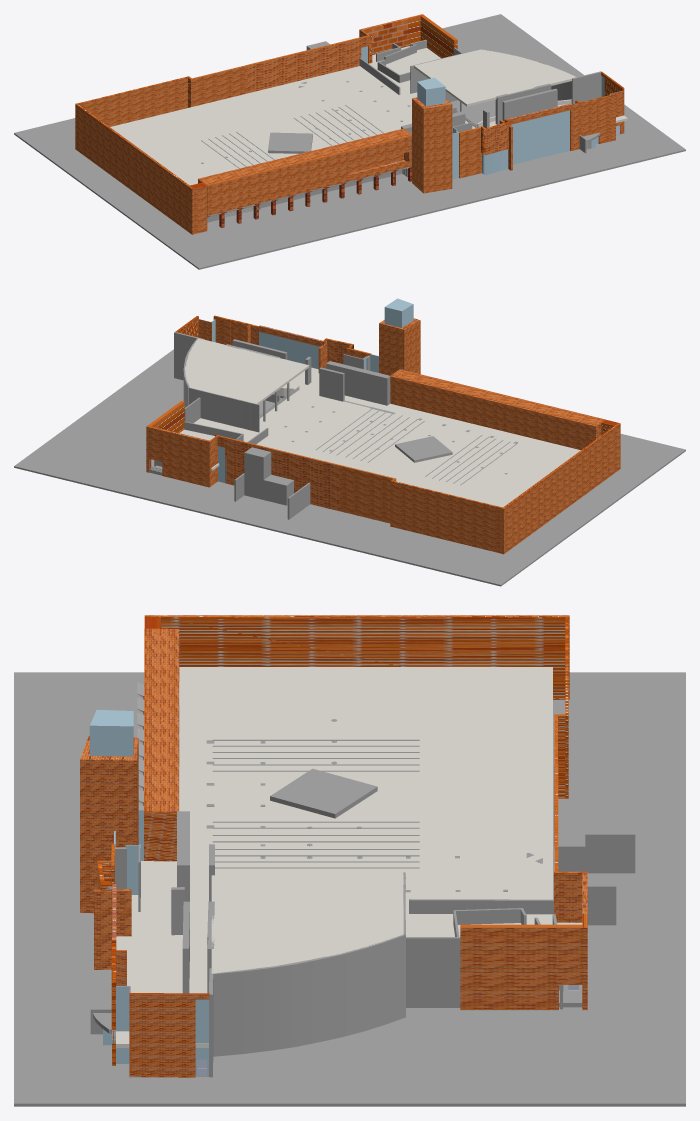
File: CAW_FBX.fbx
3 views of the same model, one above another, from view 1: azimuth 30°, elevation 25°; view 2: azimuth 150°, elevation 25°; view 3: azimuth 270°, elevation 25° (orthographic). The views are drawn at different scales.
Visible parts, largest first — view 1: floor, pPlane65, pPlane1, pPlane9, pPlane76, pCube9, pCube47, pCube46, pCube120, pCube70, pCube139, pCube133 (+15 smaller); view 2: floor, pPlane65, pPlane1, pPlane9, pCube46, pPlane76, pCube47, pCube120, pCube139, pCube9, pCube117, pCube81 (+15 smaller); view 3: floor, pPlane65, pPlane9, pCube65, pPlane76, pCube120, pPlane1, pPlane79, pCube9, pCube140, pCube126, pCube96 (+13 smaller).
Part boxes in pixels (x1,y1,x2,y2): floor: (14, 14, 685, 269); pPlane65: (110, 63, 417, 185); pPlane1: (198, 128, 411, 215); pPlane9: (75, 103, 207, 234); pPlane76: (414, 49, 576, 106); pCube9: (412, 97, 452, 193); pCube47: (246, 35, 368, 93); pCube46: (76, 76, 189, 126); pCube120: (361, 14, 457, 58); pCube70: (511, 110, 569, 164); pCube139: (188, 65, 247, 107); pCube133: (570, 98, 599, 150); floor: (14, 349, 685, 586); pPlane65: (244, 386, 580, 507); pPlane1: (390, 369, 605, 449); pPlane9: (501, 420, 620, 554); pCube46: (390, 480, 503, 553); pPlane76: (185, 338, 309, 404); pCube47: (217, 435, 339, 510); pCube120: (146, 401, 209, 486); pCube139: (339, 465, 396, 523); pCube9: (379, 318, 420, 375); pCube117: (244, 447, 293, 505); pCube81: (326, 361, 390, 405); floor: (14, 672, 685, 1106); pPlane65: (179, 667, 552, 924); pPlane9: (144, 615, 569, 699); pCube65: (212, 934, 405, 1056); pPlane76: (211, 875, 403, 973); pCube120: (460, 873, 587, 1010); pPlane1: (144, 628, 178, 861); pPlane79: (116, 861, 208, 1047); pCube9: (80, 736, 138, 913); pCube140: (129, 986, 209, 1077); pCube126: (406, 937, 460, 1007); pCube96: (270, 768, 377, 818).
Bounding box in the file's own units: 4396 × 931 × 2893.
